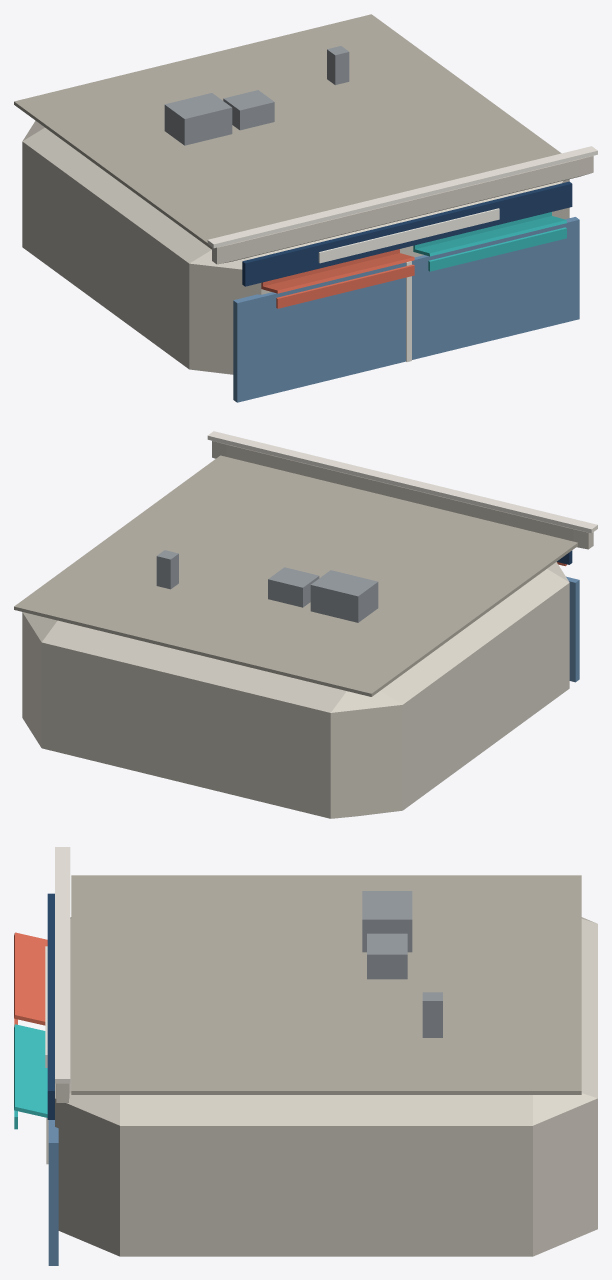
File: shop_w12_f1_stripe.glb
3 views of the same model, one above another, from view 1: azimuth 30°, elevation 25°; view 2: azimuth 150°, elevation 25°; view 3: azimuth 270°, elevation 25° (orthographic). The views are drawn at different scales.
Visible parts, largest first — view 1: roofslab, shopglass, walls, parapet, fascia, pcap, hvac, fasciatx, valance.001, valance, awn, awn.001 (+5 smaller); view 2: walls, roofslab, parapet, pcap, hvac, hvac2, shopglass, pipe; view 3: roofslab, walls, pcap, awn.001, awn, hvac, hvac2, fascia, shopglass, pipe.
Part boxes in pixels (x1,y1,x2,y2): roofslab: (14,14,561,249); shopglass: (233,217,579,402); walls: (22,120,569,374); parapet: (212,156,593,264); fascia: (242,181,572,286); pcap: (207,146,597,248); hvac: (164,93,232,145); fasciatx: (318,208,499,263); valance.001: (428,227,566,271); valance: (276,264,414,308); awn: (261,253,414,293); awn.001: (413,216,566,256); walls: (22,562,569,818); roofslab: (14,455,577,696); parapet: (212,441,593,549); pcap: (207,431,597,533); hvac: (310,570,378,622); hvac2: (268,567,319,607); shopglass: (566,576,579,682); pipe: (156,550,178,589); roofslab: (71,875,581,1094); walls: (55,917,597,1256); pcap: (55,847,70,1083); awn.001: (14,1024,47,1117); awn: (14,932,47,1025); hvac: (362,891,412,952); hvac2: (367,933,407,979); fascia: (47,893,54,1119); shopglass: (48,1120,58,1265); pipe: (422,992,442,1037).
Size of the model in its own units: 12.12 by 5.3 by 12.91.
